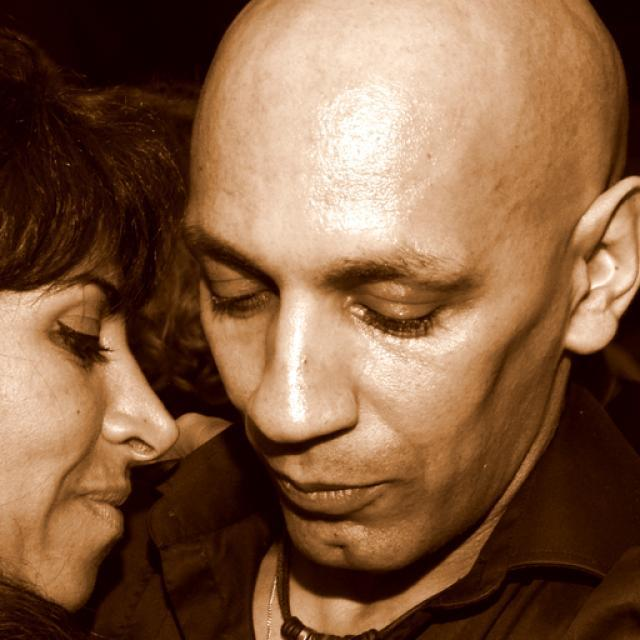happy: (0, 239, 181, 611)
sad: (190, 53, 570, 581)
